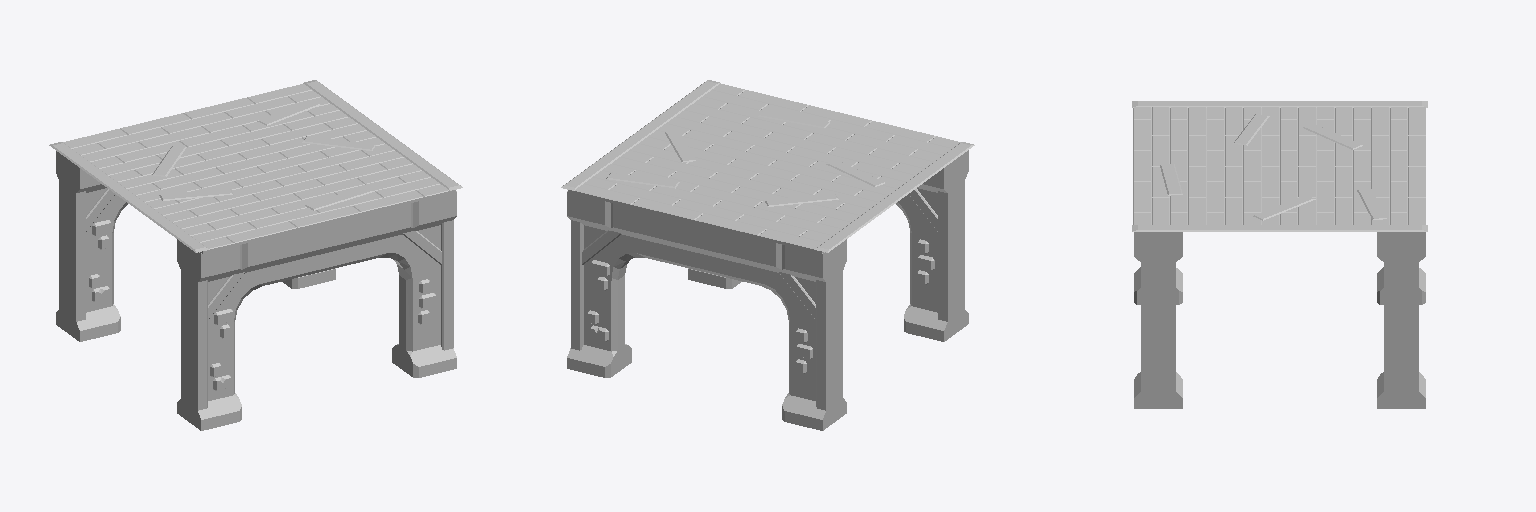
The model's file is Bridge.obj.
The picture shows the model from 3 angles: view 1: azimuth 30°, elevation 25°; view 2: azimuth 150°, elevation 25°; view 3: azimuth 270°, elevation 25°; orthographic projection.
Parts seen in each view (by area): view 1: wall_doorway_scaffold.001, wall_doorway_scaffold.002, floor_wood_large.001, floor_wood_large.005, floor_wood_large.002, floor_wood_large.003, Cube.005, Cube.006; view 2: wall_doorway_scaffold.002, wall_doorway_scaffold.001, floor_wood_large.002, floor_wood_large.003, floor_wood_large.001, floor_wood_large.005, Cube.005, Cube.006; view 3: floor_wood_large.001, floor_wood_large.002, floor_wood_large.005, floor_wood_large.003, wall_doorway_scaffold.001, wall_doorway_scaffold.002, Cube.006, Cube.005.
Boxes of the visible parts, x1=… form: wall_doorway_scaffold.001: x1=177, y1=191, x2=456, y2=430; wall_doorway_scaffold.002: x1=56, y1=151, x2=335, y2=341; floor_wood_large.001: x1=137, y1=167, x2=328, y2=253; floor_wood_large.005: x1=257, y1=137, x2=455, y2=222; floor_wood_large.002: x1=63, y1=113, x2=255, y2=195; floor_wood_large.003: x1=183, y1=84, x2=375, y2=166; Cube.005: x1=49, y1=142, x2=208, y2=252; Cube.006: x1=303, y1=80, x2=462, y2=190; wall_doorway_scaffold.002: x1=567, y1=191, x2=846, y2=430; wall_doorway_scaffold.001: x1=688, y1=150, x2=968, y2=341; floor_wood_large.002: x1=695, y1=166, x2=886, y2=253; floor_wood_large.003: x1=568, y1=137, x2=766, y2=222; floor_wood_large.001: x1=768, y1=113, x2=960, y2=195; floor_wood_large.005: x1=648, y1=83, x2=839, y2=165; Cube.005: x1=815, y1=142, x2=974, y2=252; Cube.006: x1=561, y1=80, x2=719, y2=190; floor_wood_large.001: x1=1133, y1=107, x2=1279, y2=166; floor_wood_large.002: x1=1280, y1=107, x2=1425, y2=166; floor_wood_large.005: x1=1133, y1=166, x2=1279, y2=224; floor_wood_large.003: x1=1280, y1=166, x2=1425, y2=224; wall_doorway_scaffold.001: x1=1134, y1=232, x2=1182, y2=408; wall_doorway_scaffold.002: x1=1377, y1=232, x2=1425, y2=408; Cube.006: x1=1132, y1=225, x2=1427, y2=231; Cube.005: x1=1132, y1=101, x2=1427, y2=107.
Size of the model in its own units: 12.64 by 8.19 by 12.09.